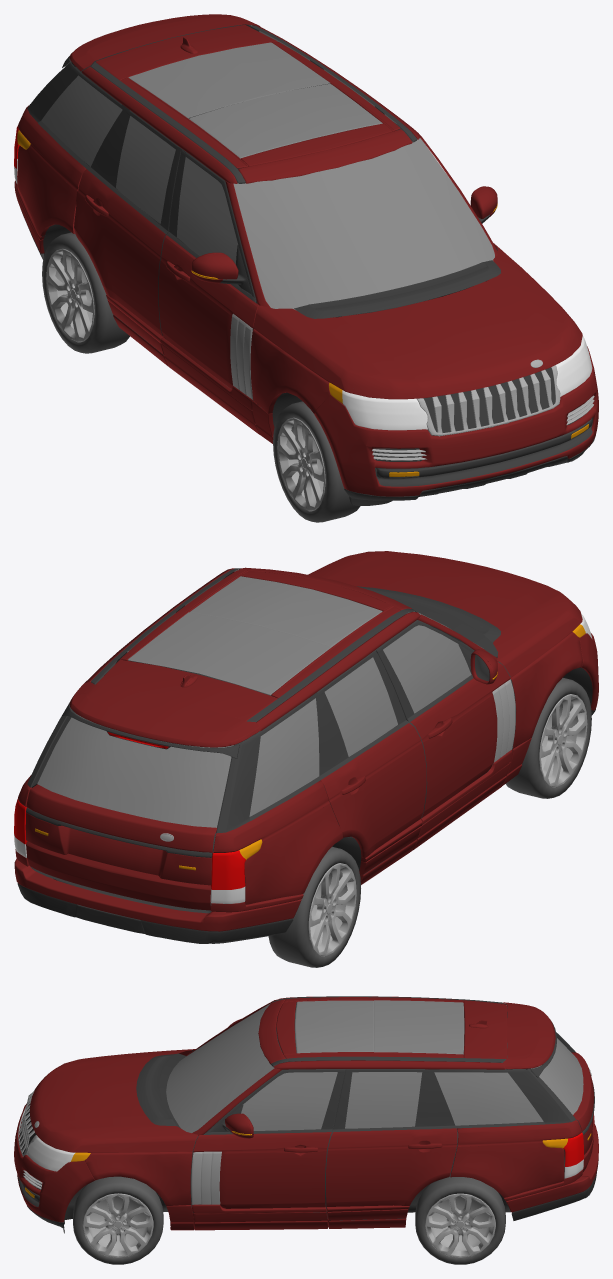
The model's file is SUVModel.fbx.
The picture shows the model from 3 angles, top to bottom: view 1: azimuth 30°, elevation 25°; view 2: azimuth 150°, elevation 25°; view 3: azimuth 270°, elevation 25°; orthographic projection. The views are drawn at different scales.
Visible parts, largest first — view 1: Body, WheelRightRear, WheelRightFront; view 2: Body, WheelRightRear, WheelRightFront; view 3: Body, WheelLeftFront, WheelLeftRear.
Boxes of the visible parts, x1,y1,x2,y2 form: Body: [14, 14, 598, 505]; WheelRightRear: [42, 232, 129, 353]; WheelRightFront: [273, 401, 360, 522]; Body: [14, 551, 598, 943]; WheelRightRear: [268, 846, 360, 967]; WheelRightFront: [506, 678, 591, 798]; Body: [14, 996, 598, 1233]; WheelLeftFront: [73, 1176, 163, 1264]; WheelLeftRear: [415, 1176, 505, 1264].
Size of the model in its own units: 208 by 177 by 471.
